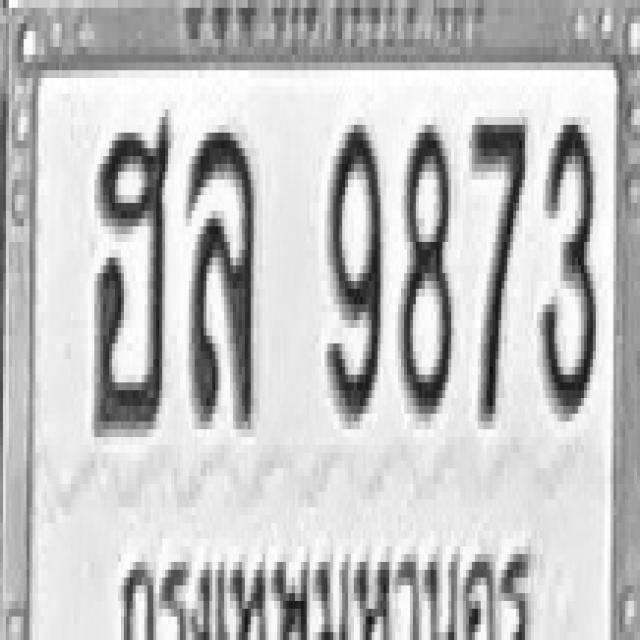3: (540, 117, 596, 414)
45LorLing: (186, 121, 256, 425)
53HorNokHook: (91, 113, 171, 433)
7: (471, 117, 526, 422)
8: (398, 117, 451, 422)
9: (326, 117, 382, 422)
